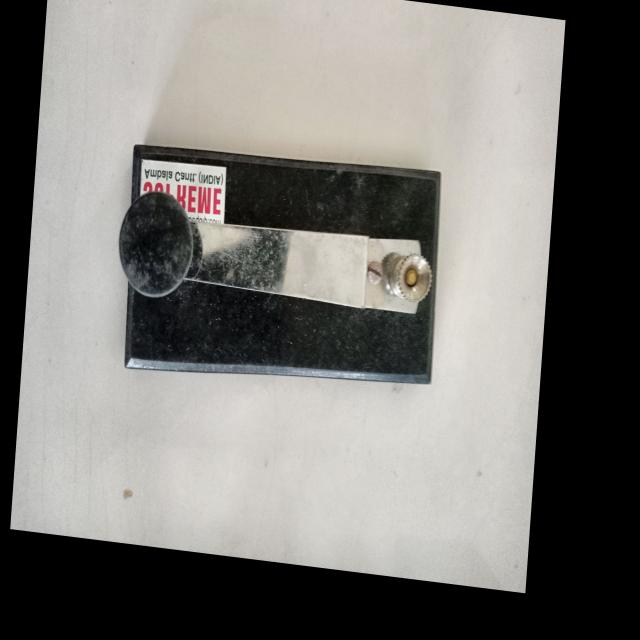Press Key: (107, 120, 457, 405)
